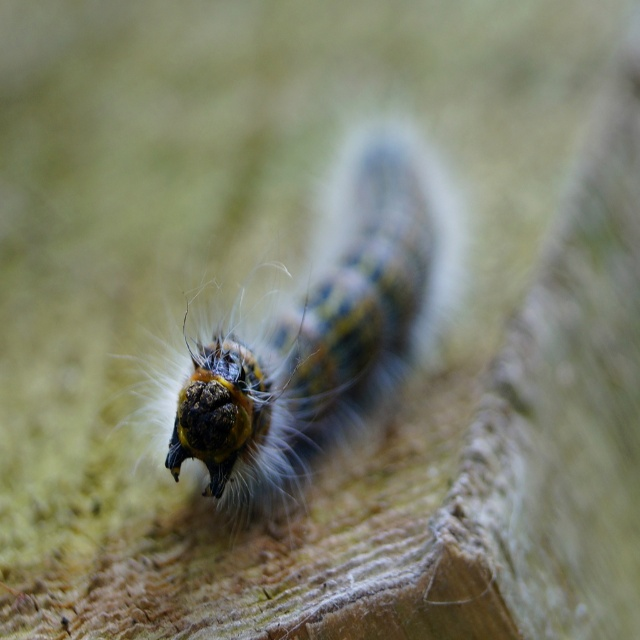Caterpillar: (108, 62, 481, 551)
